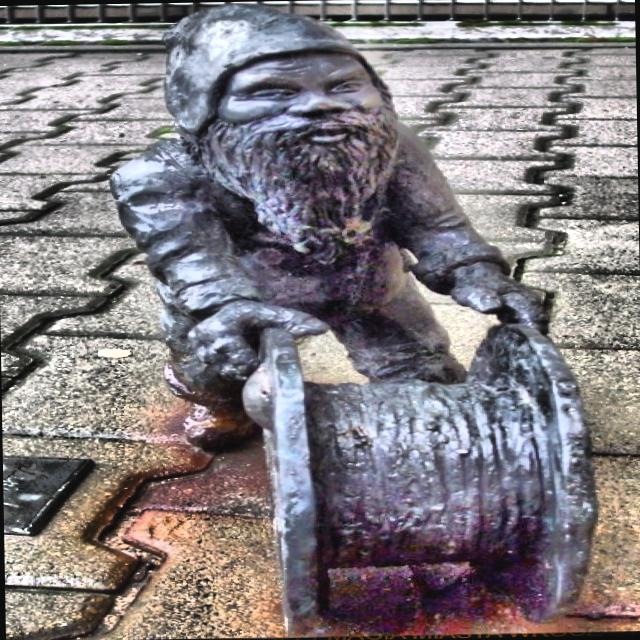Lappek: (108, 4, 597, 634)
